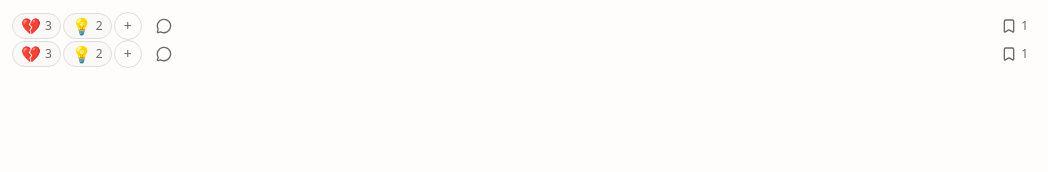
Test: ReactionBar › updates every mounted view of an L through its canonical reaction cache
This screenshot has width=1048, height=172.
Click the button named "been there" at {"x": 36, "y": 26}, box [12,13,61,39]
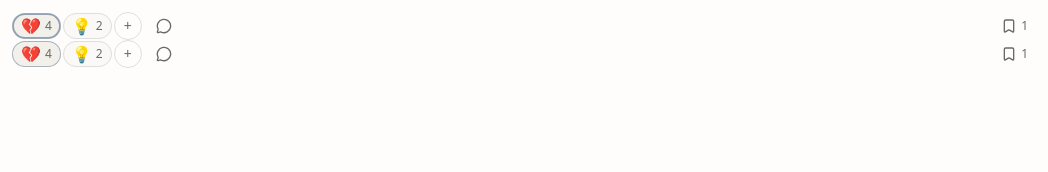
Check: the number of buttons named "been there" is 2, box [12,13,61,39]; [12,41,61,67]
Check: the button named "been there" shows "4", box [12,13,61,39]
